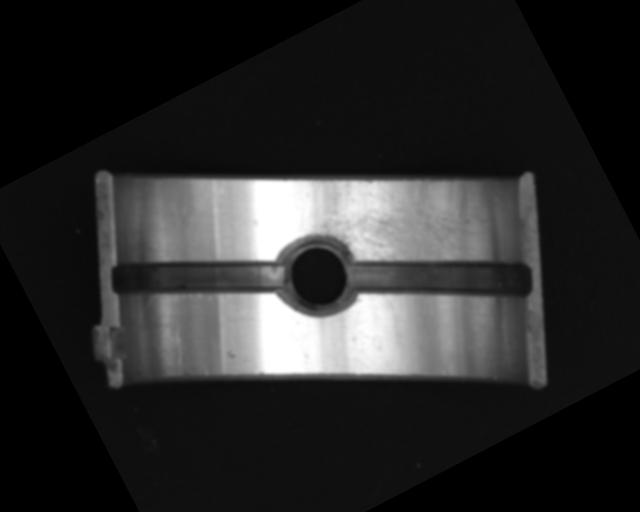bruise: (224, 347, 238, 361)
gap: (348, 197, 536, 362), (106, 198, 289, 355)
hole: (267, 223, 367, 327)
nick: (157, 323, 199, 375)
scratch: (292, 127, 493, 320)
